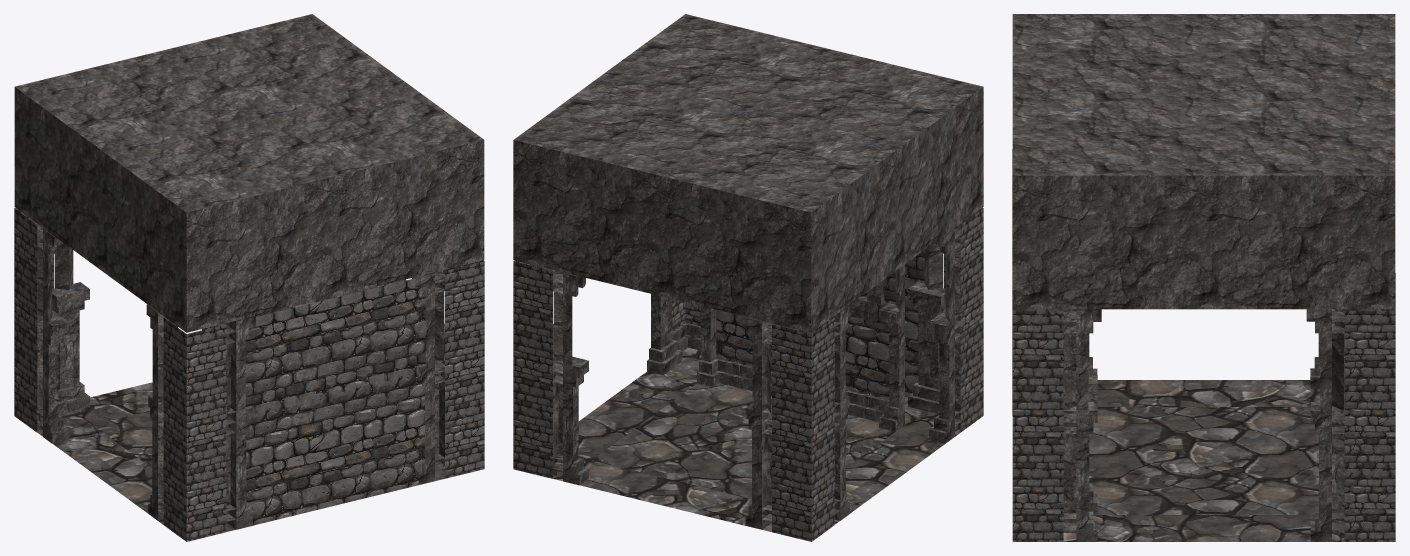
File: Perekrestok.FBX
3 views of the same model, side by side, from view 1: azimuth 30°, elevation 25°; view 2: azimuth 150°, elevation 25°; view 3: azimuth 270°, elevation 25° (orthographic). The views are drawn at different scales.
Visible parts, largest first — view 1: Perekrestok, Perekrestok_Wall, Corridor; view 2: Perekrestok, Corridor, Corridor_wall, Perekrestok_Wall; view 3: Perekrestok, Corridor, Corridor_wall.
Part boxes in pixels (<box>): Perekrestok: <box>14,14,484,541</box>; Perekrestok_Wall: <box>245,278,425,525</box>; Corridor: <box>93,411,152,467</box>; Perekrestok: <box>513,14,983,541</box>; Corridor: <box>592,383,894,499</box>; Corridor_wall: <box>697,265,904,431</box>; Perekrestok_Wall: <box>905,250,924,397</box>; Perekrestok: <box>1012,14,1395,541</box>; Corridor: <box>1089,407,1318,514</box>; Corridor_wall: <box>1088,333,1097,514</box>.
Size of the model in its own units: 451 by 475 by 451.
